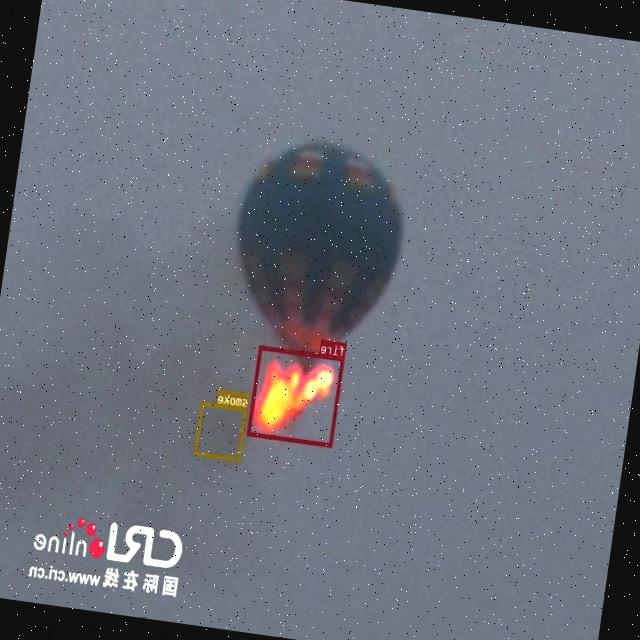fire: (248, 346, 346, 448)
smoke: (194, 401, 248, 462)
